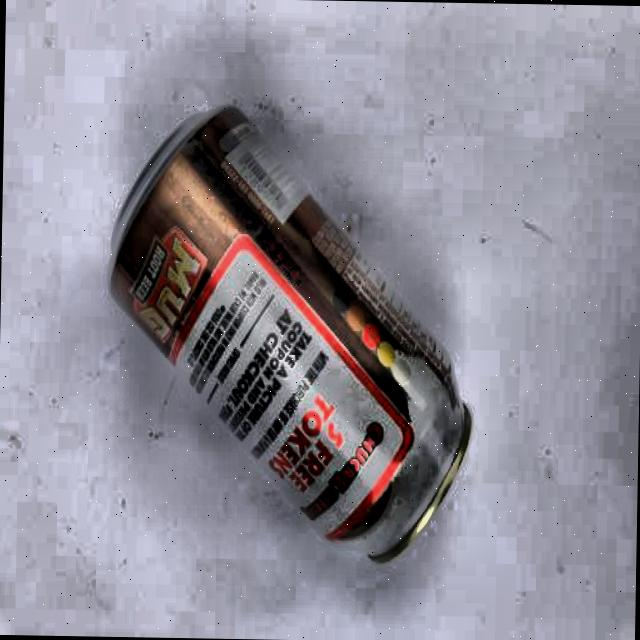metal: (104, 98, 480, 570)
